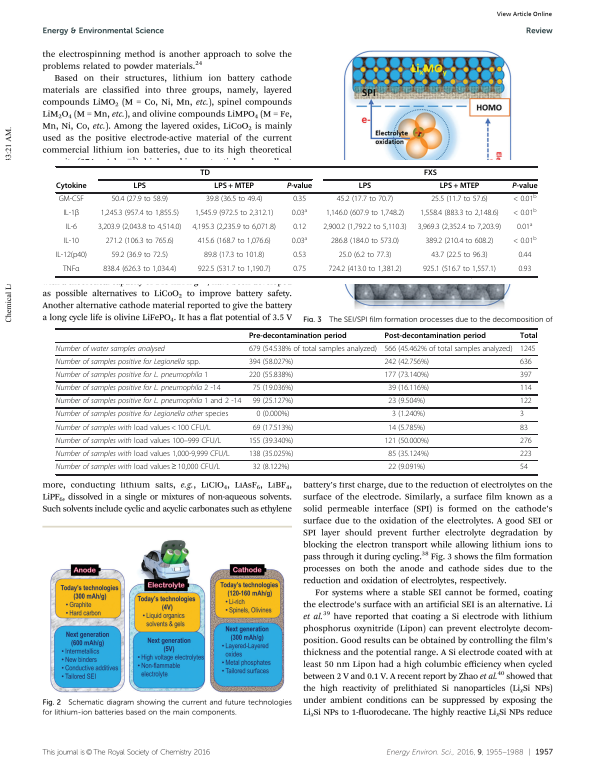borderless: (55, 327, 537, 474), (54, 165, 537, 276)
cell: (55, 449, 231, 459), (55, 397, 242, 406), (55, 436, 222, 446), (55, 383, 221, 393), (55, 462, 221, 472), (55, 410, 229, 419), (55, 370, 209, 380), (55, 357, 201, 367), (55, 423, 211, 432), (248, 344, 378, 354), (383, 344, 513, 354), (55, 344, 166, 354), (383, 331, 487, 340), (248, 331, 347, 340), (191, 223, 277, 233), (322, 223, 408, 233), (97, 223, 182, 233), (417, 223, 502, 233), (100, 209, 180, 219), (194, 209, 274, 219), (325, 209, 405, 219), (419, 209, 499, 219), (197, 237, 272, 247), (102, 265, 177, 275), (197, 265, 272, 275), (327, 265, 402, 275), (422, 265, 497, 275), (105, 237, 175, 247), (330, 237, 400, 247), (424, 237, 494, 247), (203, 251, 265, 261), (110, 195, 169, 205), (430, 195, 489, 205), (110, 251, 169, 261), (430, 251, 489, 261), (205, 195, 263, 205), (336, 195, 394, 205), (338, 251, 392, 261), (383, 357, 430, 367), (383, 370, 430, 380), (383, 436, 430, 446), (248, 357, 294, 367), (248, 370, 294, 380), (248, 436, 294, 446), (248, 449, 294, 459), (387, 383, 430, 393), (387, 449, 430, 459), (252, 383, 294, 393), (213, 182, 255, 192), (439, 182, 480, 192), (387, 462, 426, 472), (252, 462, 290, 472), (252, 397, 294, 406), (252, 423, 294, 432), (387, 397, 426, 406), (387, 423, 426, 432), (55, 251, 88, 261), (55, 182, 87, 192), (255, 410, 290, 419), (391, 410, 426, 419), (512, 194, 537, 205), (512, 208, 537, 219), (512, 236, 537, 247), (286, 182, 313, 192), (511, 182, 538, 192), (58, 195, 85, 205), (291, 208, 308, 219), (516, 222, 533, 233), (291, 236, 308, 247), (62, 209, 80, 219), (62, 265, 80, 275), (519, 331, 538, 340), (519, 344, 536, 354), (63, 237, 80, 247), (132, 182, 147, 192), (292, 195, 307, 205), (292, 223, 307, 233), (292, 251, 307, 261), (517, 251, 532, 261), (292, 265, 307, 275), (517, 265, 532, 275), (519, 357, 533, 367), (519, 370, 533, 380), (519, 383, 533, 393), (519, 436, 533, 446), (519, 449, 533, 459), (358, 182, 372, 192), (64, 223, 78, 233), (423, 169, 438, 178), (519, 397, 533, 406), (199, 169, 211, 178), (519, 462, 529, 472), (519, 423, 529, 432), (519, 410, 525, 419)
